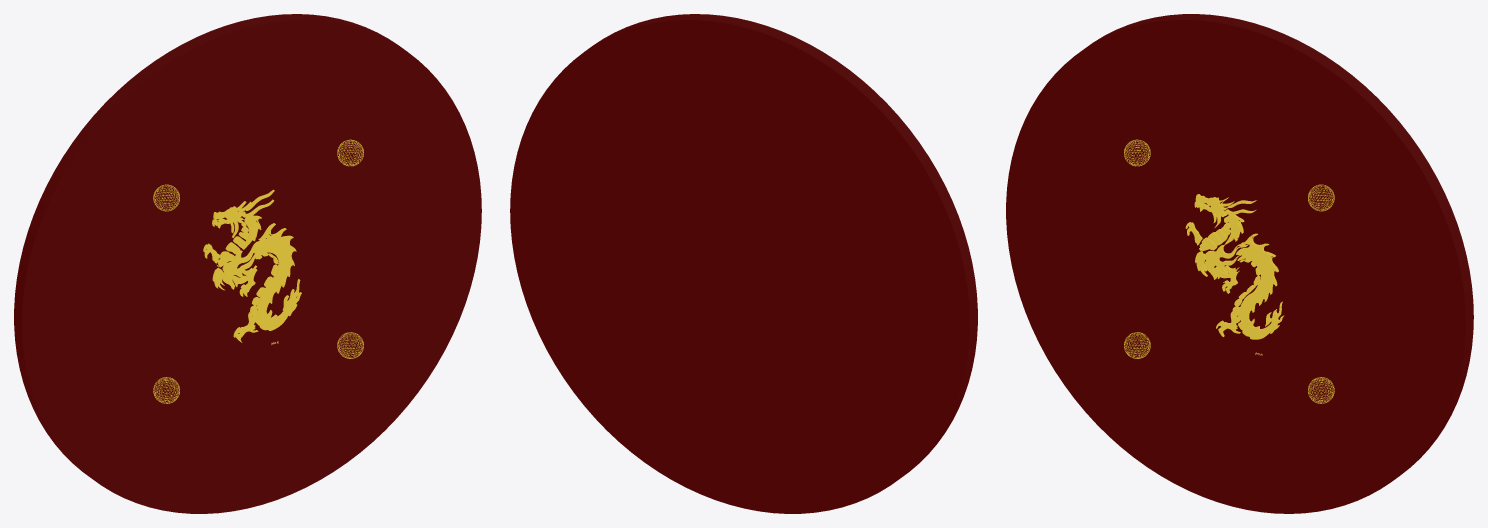
File: GoldDragon.glb
3 renders of one model, left to right at view 1: azimuth 30°, elevation 25°; view 2: azimuth 150°, elevation 25°; view 3: azimuth 330°, elevation 25°, orthographic.
Bounding box in the file's own units: 0.9999 × 1 × 0.0803.
